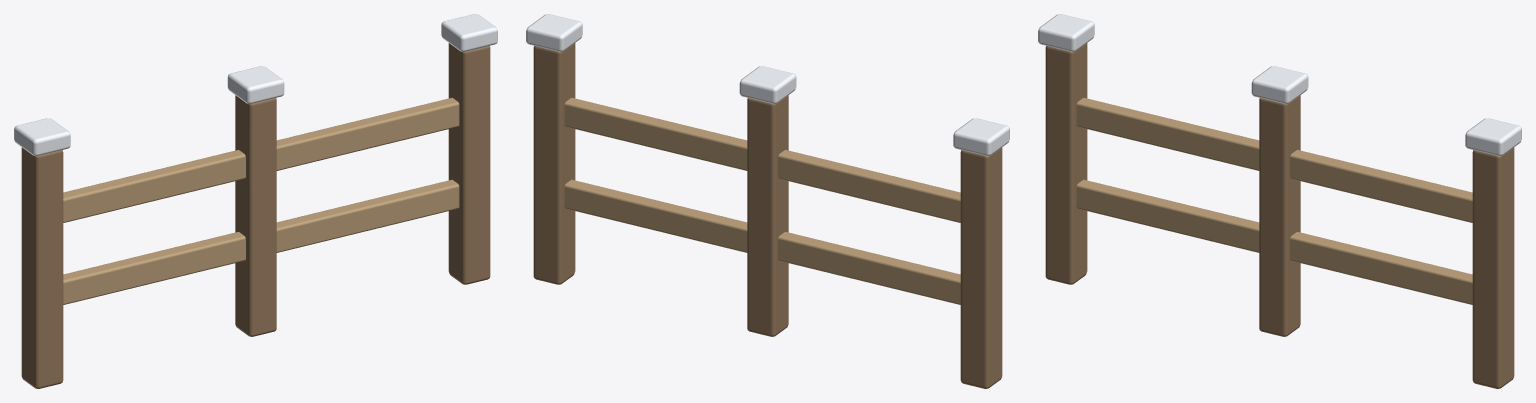
The model's file is fence_section.glb.
3 renders of one model, left to right at view 1: azimuth 30°, elevation 25°; view 2: azimuth 150°, elevation 25°; view 3: azimuth 330°, elevation 25°, orthographic.
Parts seen in each view (by area): view 1: rail0.68, rail0.35, post-0.9, post0.9, post0.0, cap0.0, cap0.9, cap-0.9; view 2: rail0.68, rail0.35, post-0.9, post0.9, post0.0, cap0.0, cap0.9, cap-0.9; view 3: rail0.68, rail0.35, post0.9, post-0.9, post0.0, cap0.0, cap-0.9, cap0.9.
Part boxes in pixels (x1,y1,x2,y2): rail0.68: [63, 97, 459, 222]; rail0.35: [63, 179, 459, 304]; post-0.9: [21, 147, 63, 388]; post0.9: [448, 43, 490, 284]; post0.0: [235, 95, 276, 336]; cap0.0: [227, 66, 284, 103]; cap0.9: [441, 14, 497, 51]; cap-0.9: [14, 118, 70, 156]; rail0.68: [564, 97, 960, 222]; rail0.35: [564, 179, 960, 304]; post-0.9: [960, 147, 1002, 388]; post0.9: [533, 43, 575, 284]; post0.0: [747, 95, 788, 336]; cap0.0: [739, 66, 796, 103]; cap0.9: [526, 14, 582, 51]; cap-0.9: [953, 118, 1009, 156]; rail0.68: [1076, 97, 1472, 222]; rail0.35: [1076, 179, 1472, 304]; post0.9: [1472, 147, 1514, 388]; post-0.9: [1045, 43, 1087, 284]; post0.0: [1259, 95, 1300, 336]; cap0.0: [1251, 66, 1308, 103]; cap-0.9: [1038, 14, 1094, 51]; cap0.9: [1465, 118, 1521, 156].
Bounding box in the file's own units: 1.96 × 1.02 × 0.16.
